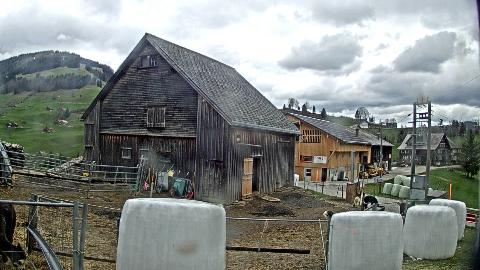sheep: (0, 200, 30, 270), (400, 200, 416, 216), (364, 196, 380, 210), (322, 210, 334, 220), (354, 196, 360, 208)
